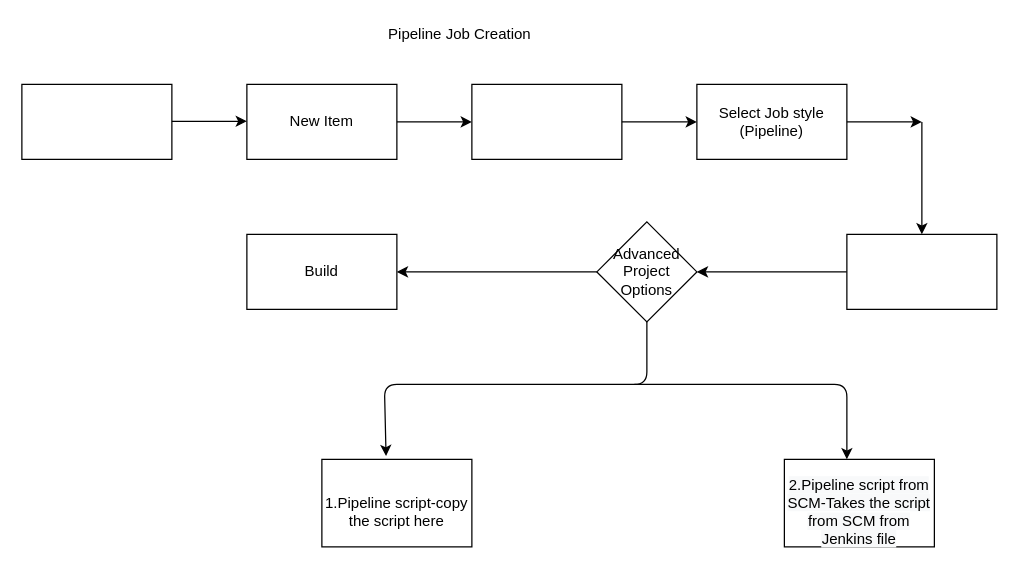
Image size: 1019x569. Some labels were removed from this diagram. Each missing label, with the box of its shape:
Jenkins Dshboard: (21, 83, 172, 159)
Job Name (Demo_Application): (471, 83, 622, 159)
OK: (846, 233, 997, 309)
